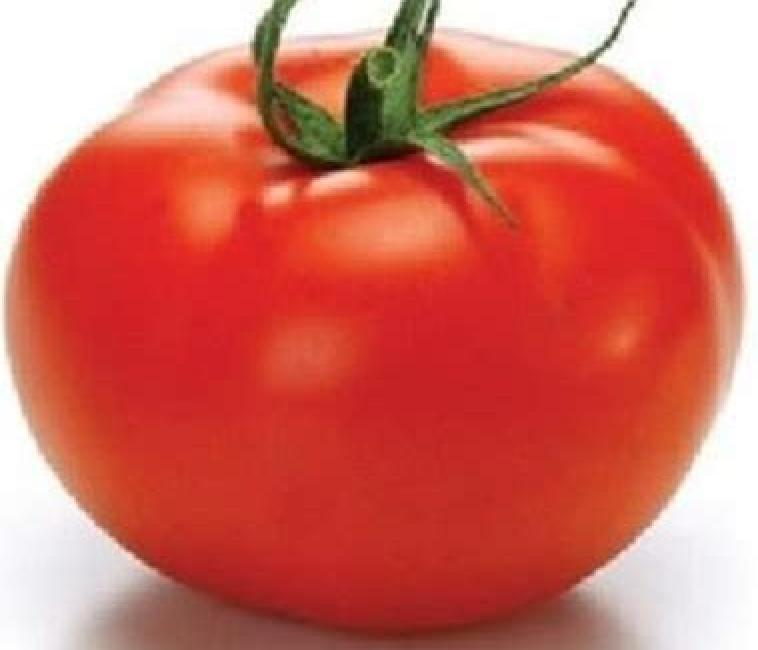tomato: (14, 30, 738, 629)
